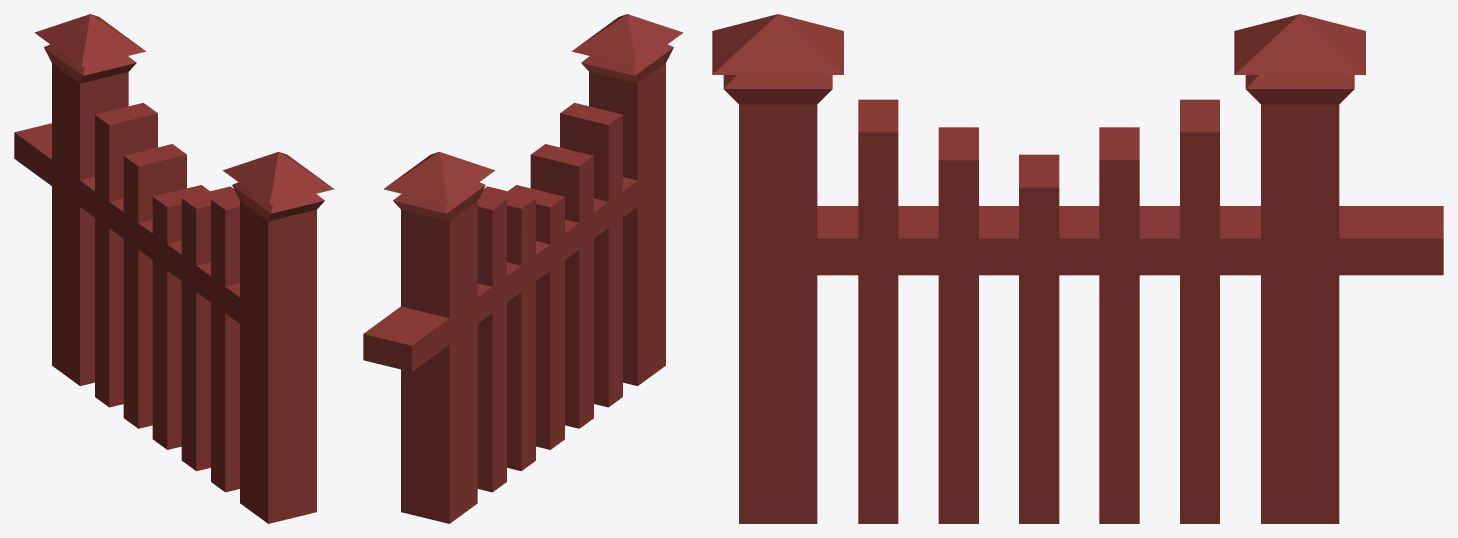
File: Fence City 2.fbx
3 renders of one model, left to right at view 1: azimuth 30°, elevation 25°; view 2: azimuth 150°, elevation 25°; view 3: azimuth 270°, elevation 25°, orthographic. The views are drawn at different scales.
Visible parts, largest first — view 1: Cube.002; view 2: Cube.002; view 3: Cube.002.
Part boxes in pixels (<box>): Cube.002: <box>14,14,334,523</box>; Cube.002: <box>363,14,683,523</box>; Cube.002: <box>712,14,1443,523</box>.
Size of the model in its own units: 20.56 by 108 by 145.
